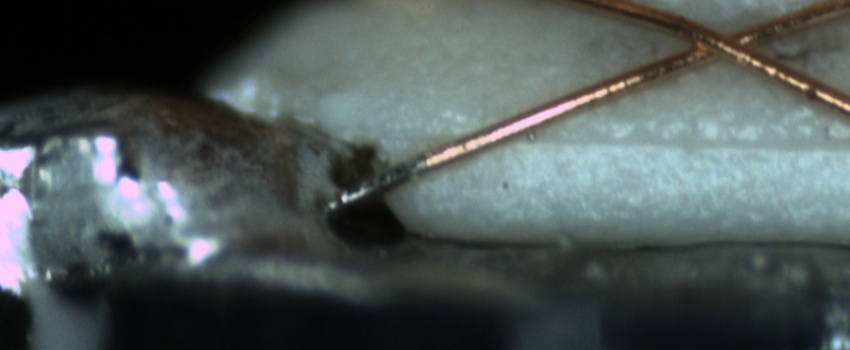CL: (656, 11, 794, 75)
DL: (473, 113, 850, 176)
TS: (329, 150, 428, 214)
